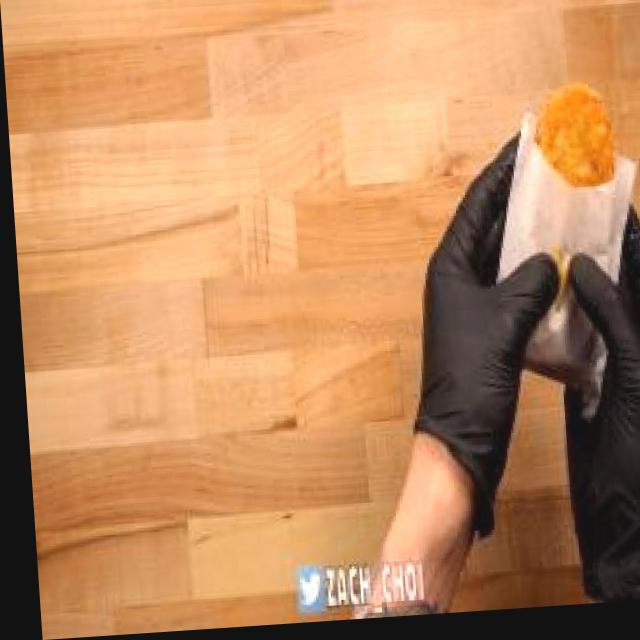Hashbrown: (518, 71, 632, 239)
